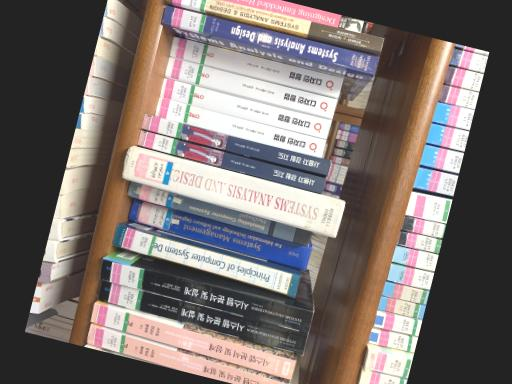book-spine: (120, 147, 344, 238), (96, 279, 306, 355), (98, 259, 312, 333), (89, 303, 294, 380), (161, 5, 377, 74), (111, 225, 299, 297), (127, 199, 310, 271), (126, 181, 310, 246), (136, 131, 324, 194), (140, 113, 329, 175), (85, 325, 282, 384), (164, 0, 383, 50), (163, 57, 336, 119), (158, 78, 330, 140), (168, 36, 342, 97), (154, 97, 324, 158), (220, 0, 366, 34)
